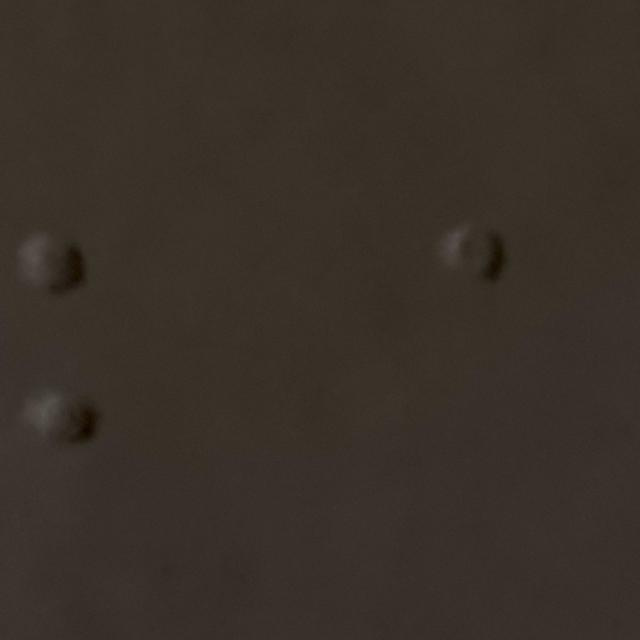letter_a: (437, 225, 596, 432)
letter_k: (25, 234, 184, 441)
